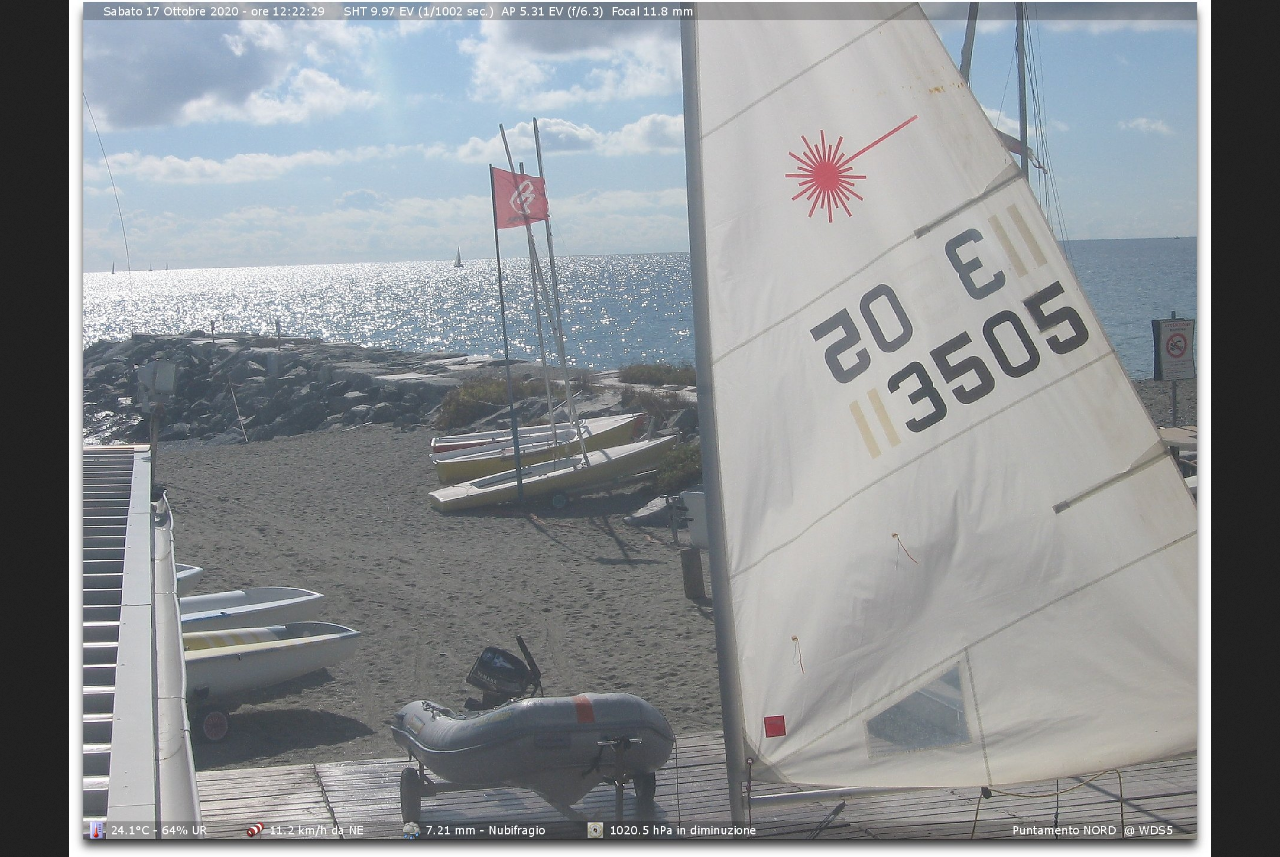yes: (490, 164, 551, 229)
